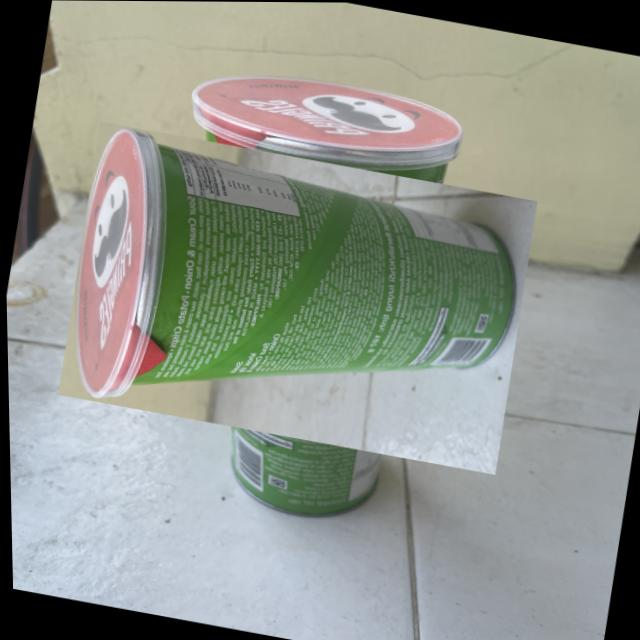a pringles: (84, 87, 508, 508)
